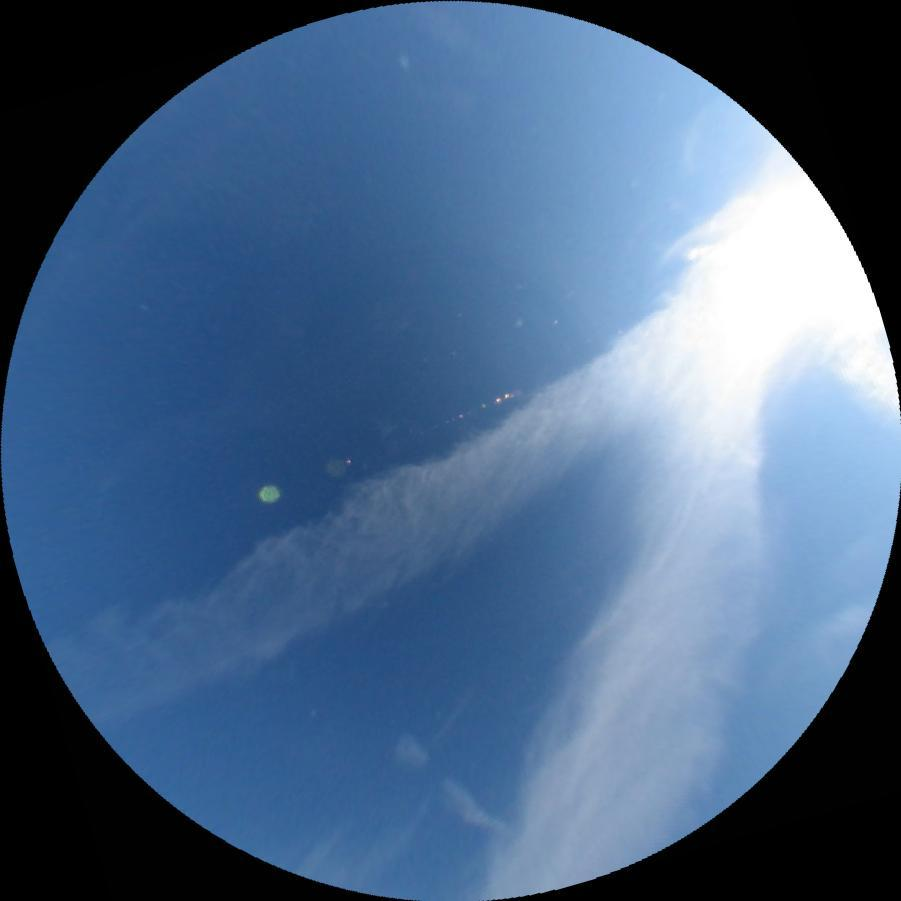contrail veryold: (47, 182, 874, 768)
unknow: (387, 731, 510, 848), (424, 689, 471, 748)
